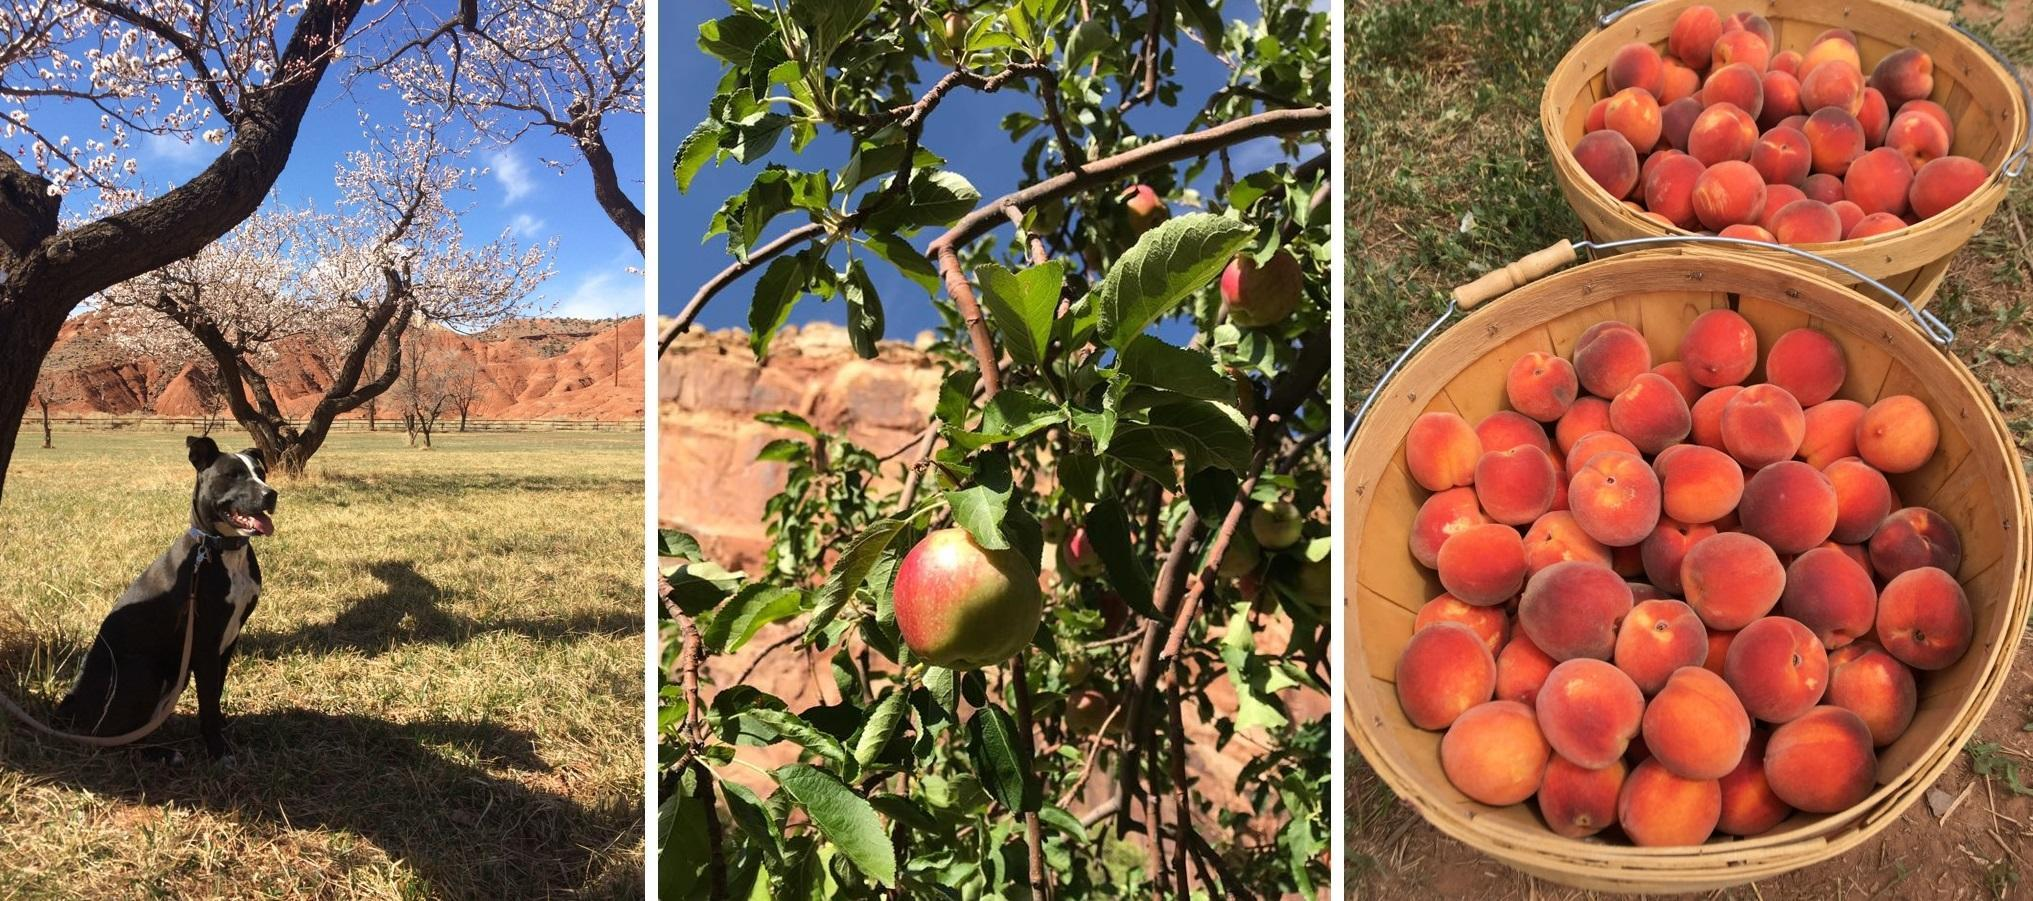apple: (895, 524, 1048, 674), (1227, 242, 1307, 323), (1114, 179, 1167, 231)
